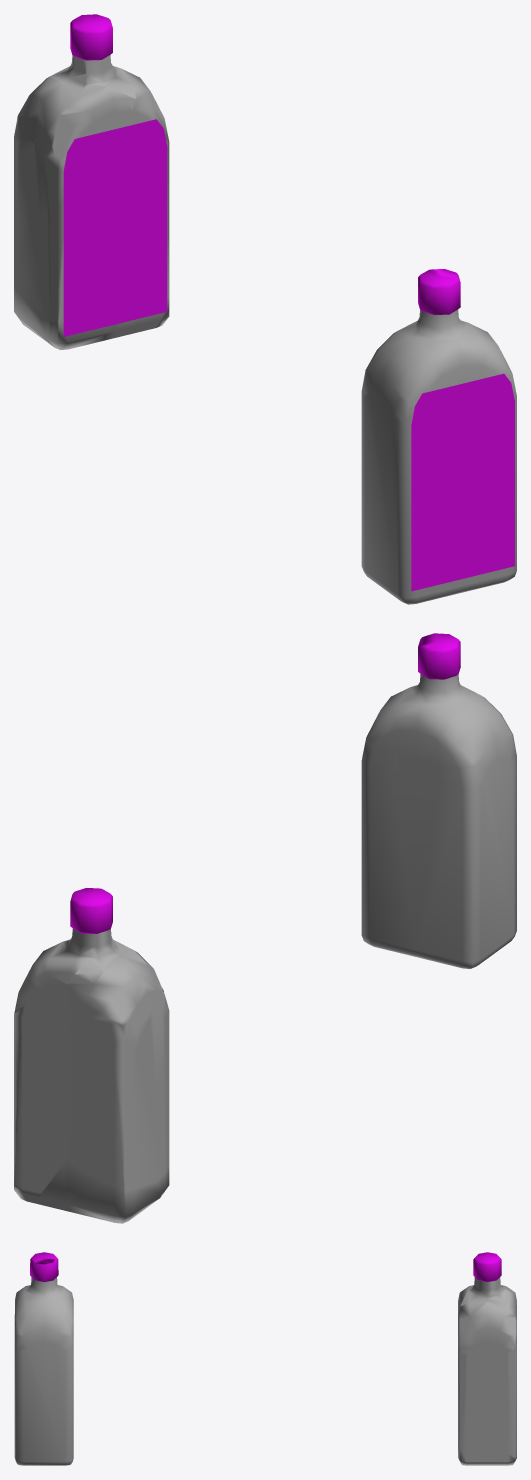
The model's file is Breakable Shots MDL.fbx.
The picture shows the model from 3 angles, top to bottom: view 1: azimuth 30°, elevation 25°; view 2: azimuth 150°, elevation 25°; view 3: azimuth 270°, elevation 25°; orthographic projection. The views are drawn at different scales.
Visible parts, largest first — view 1: shotBottle, shotsBottleFragment14, shotsBottleFragment17, shotsBottleFragment18, shotsBottleFragment20, shotsBottleFragment, shotsBottleFragment19, shotsBottleFragment3, shotsBottleFragment10, shotsBottleFragment21, shotsBottleFragment12, shotsBottleFragment13 (+5 smaller); view 2: shotBottle, shotsBottleFragment15, shotsBottleFragment1, shotsBottleFragment3, shotsBottleFragment6, shotsBottleFragment8, shotsBottleFragment7, shotsBottleFragment2, shotsBottleFragment18, shotsBottleFragment10, shotsBottleFragment5, shotsBottleFragment9 (+5 smaller); view 3: shotBottle, shotsBottleFragment13, shotsBottleFragment11, shotsBottleFragment9, shotsBottleFragment22, shotsBottleFragment5, shotsBottleFragment12, shotsBottleFragment4, shotsBottleFragment19, shotsBottleFragment21.
Part boxes in pixels (x1=…): shotBottle: x1=361, y1=269, x2=516, y2=604; shotsBottleFragment14: x1=72, y1=121, x2=169, y2=214; shotsBottleFragment17: x1=33, y1=201, x2=110, y2=290; shotsBottleFragment18: x1=14, y1=249, x2=127, y2=322; shotsBottleFragment20: x1=41, y1=282, x2=149, y2=349; shotsBottleFragment: x1=51, y1=85, x2=132, y2=160; shotsBottleFragment19: x1=110, y1=174, x2=169, y2=268; shotsBottleFragment3: x1=14, y1=143, x2=63, y2=224; shotsBottleFragment10: x1=38, y1=55, x2=88, y2=149; shotsBottleFragment21: x1=126, y1=238, x2=169, y2=305; shotsBottleFragment12: x1=70, y1=14, x2=112, y2=60; shotsBottleFragment13: x1=124, y1=70, x2=169, y2=146; shotBottle: x1=361, y1=633, x2=516, y2=968; shotsBottleFragment15: x1=14, y1=997, x2=111, y2=1106; shotsBottleFragment1: x1=37, y1=1161, x2=161, y2=1223; shotsBottleFragment3: x1=107, y1=1000, x2=169, y2=1122; shotsBottleFragment6: x1=51, y1=991, x2=153, y2=1073; shotsBottleFragment8: x1=75, y1=1100, x2=158, y2=1172; shotsBottleFragment7: x1=64, y1=971, x2=157, y2=1025; shotsBottleFragment2: x1=30, y1=1056, x2=109, y2=1139; shotsBottleFragment18: x1=68, y1=1132, x2=169, y2=1190; shotsBottleFragment10: x1=75, y1=929, x2=163, y2=1003; shotsBottleFragment5: x1=36, y1=928, x2=111, y2=998; shotsBottleFragment9: x1=14, y1=1123, x2=64, y2=1192; shotBottle: x1=14, y1=1252, x2=73, y2=1465; shotsBottleFragment13: x1=458, y1=1302, x2=516, y2=1359; shotsBottleFragment11: x1=462, y1=1353, x2=516, y2=1401; shotsBottleFragment9: x1=474, y1=1416, x2=516, y2=1456; shotsBottleFragment22: x1=458, y1=1435, x2=516, y2=1465; shotsBottleFragment5: x1=458, y1=1277, x2=516, y2=1320; shotsBottleFragment12: x1=473, y1=1252, x2=501, y2=1281; shotsBottleFragment4: x1=476, y1=1398, x2=516, y2=1418; shotsBottleFragment19: x1=458, y1=1369, x2=478, y2=1411; shotsBottleFragment21: x1=458, y1=1411, x2=480, y2=1448.
Bounding box in the file's own units: 1.29 × 3.21 × 7.6.
